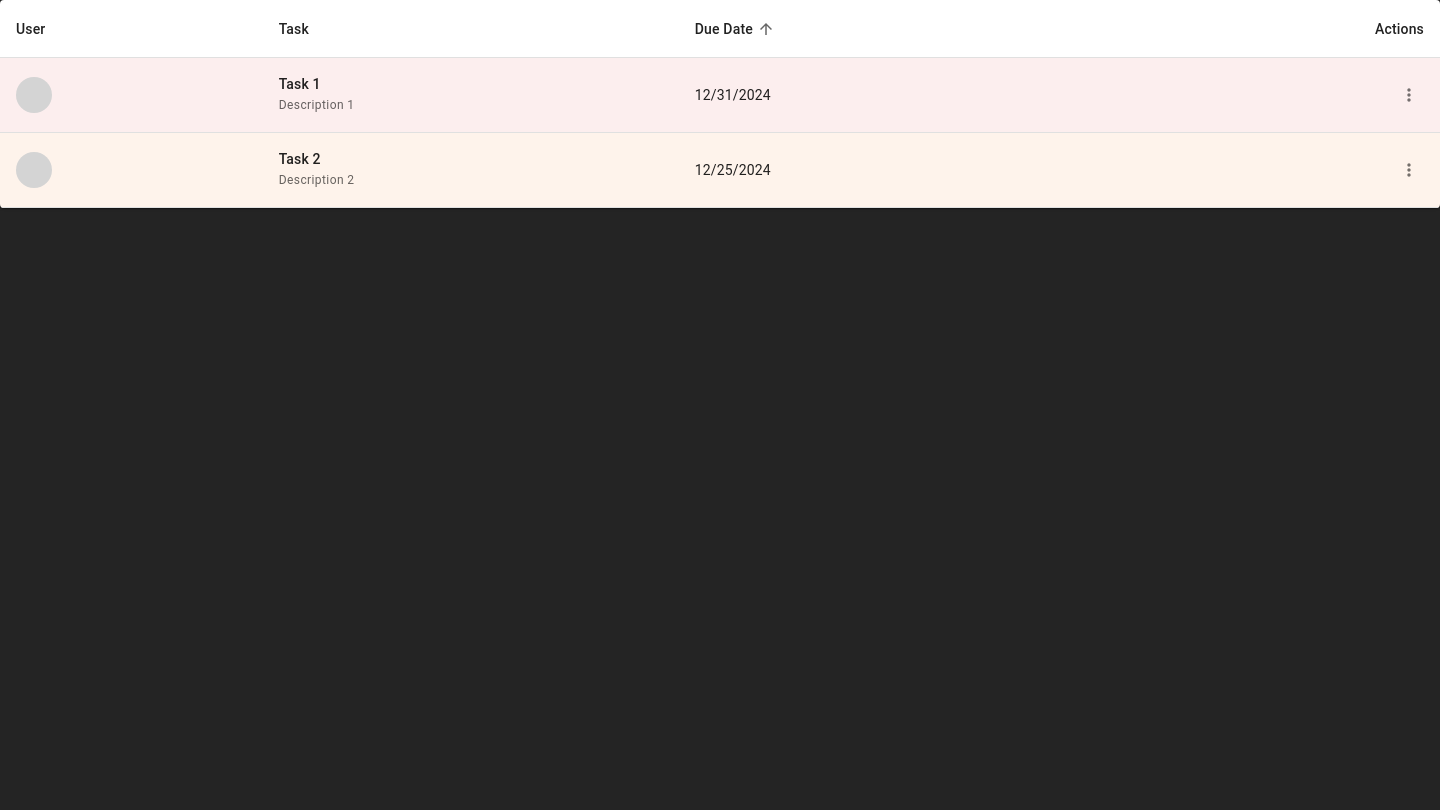
TasksTableCompact › opens delete dialog from menu
Click the button named "task actions" in the row of "Task 1".
click(1409, 95)  # box [1394, 80, 1424, 110]
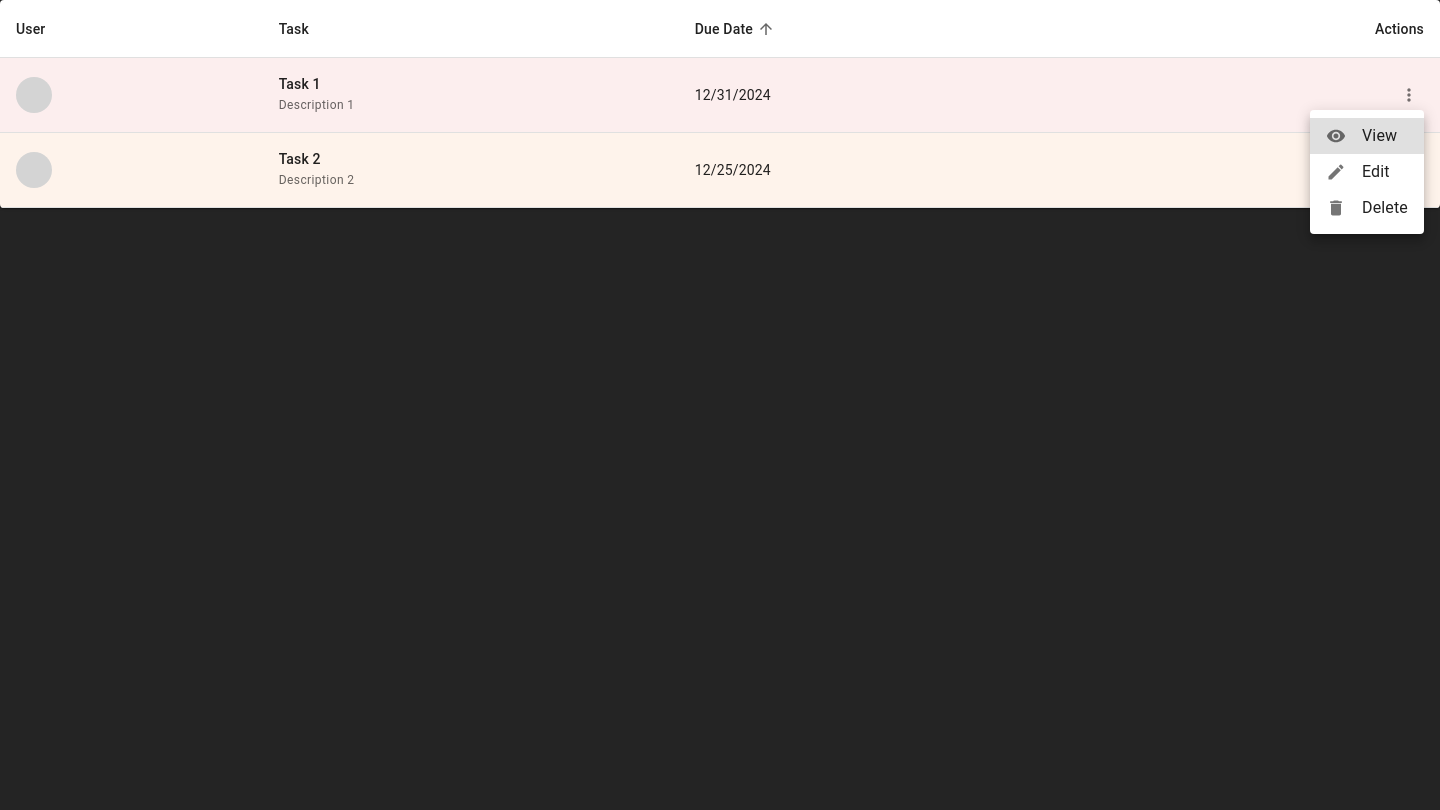
Click the menu item "Delete".
click(1367, 208)  # box [1326, 198, 1408, 218]
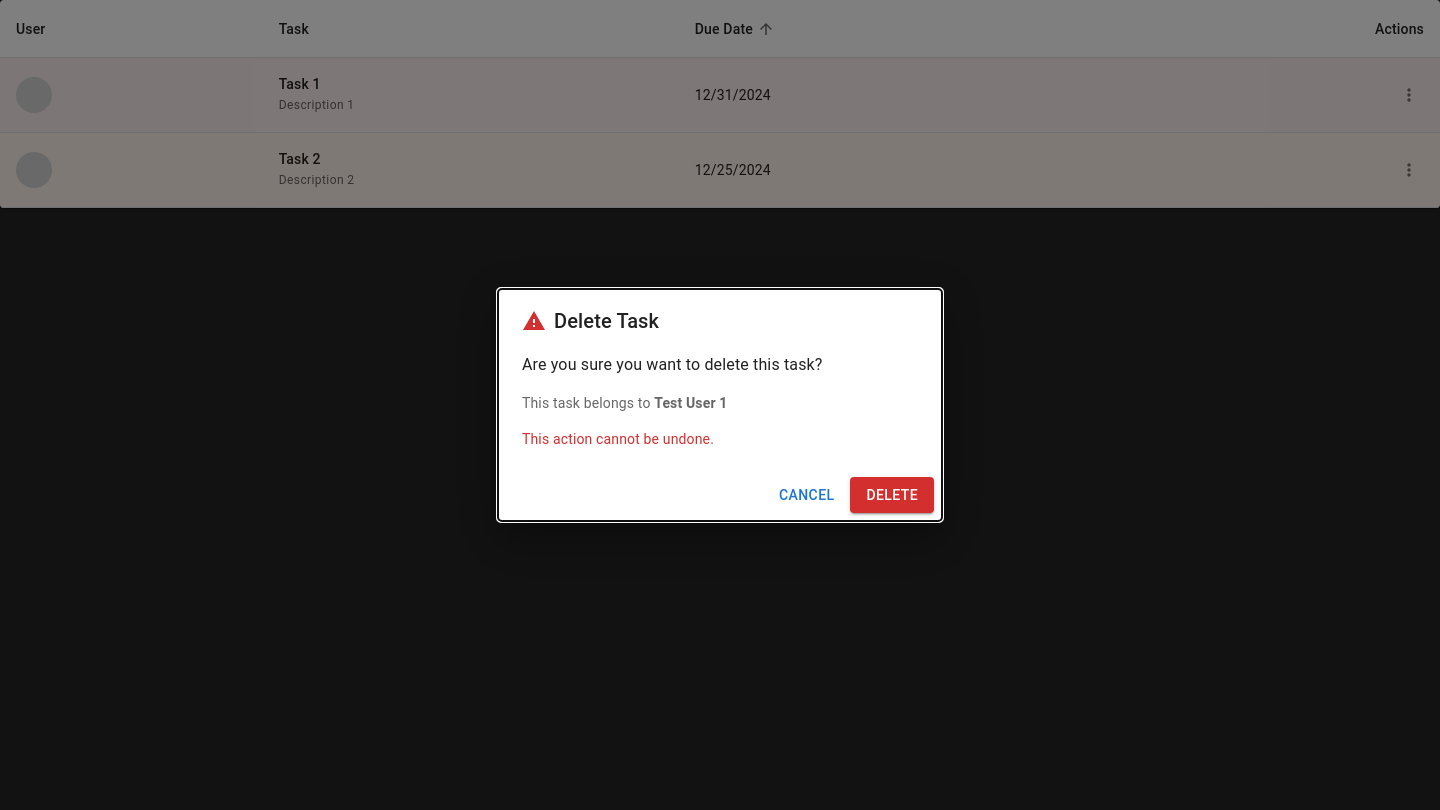
Expected: the dialog is shown, [498, 289, 942, 521]
Expected: the text "Delete Task" is shown, [554, 305, 659, 337]
